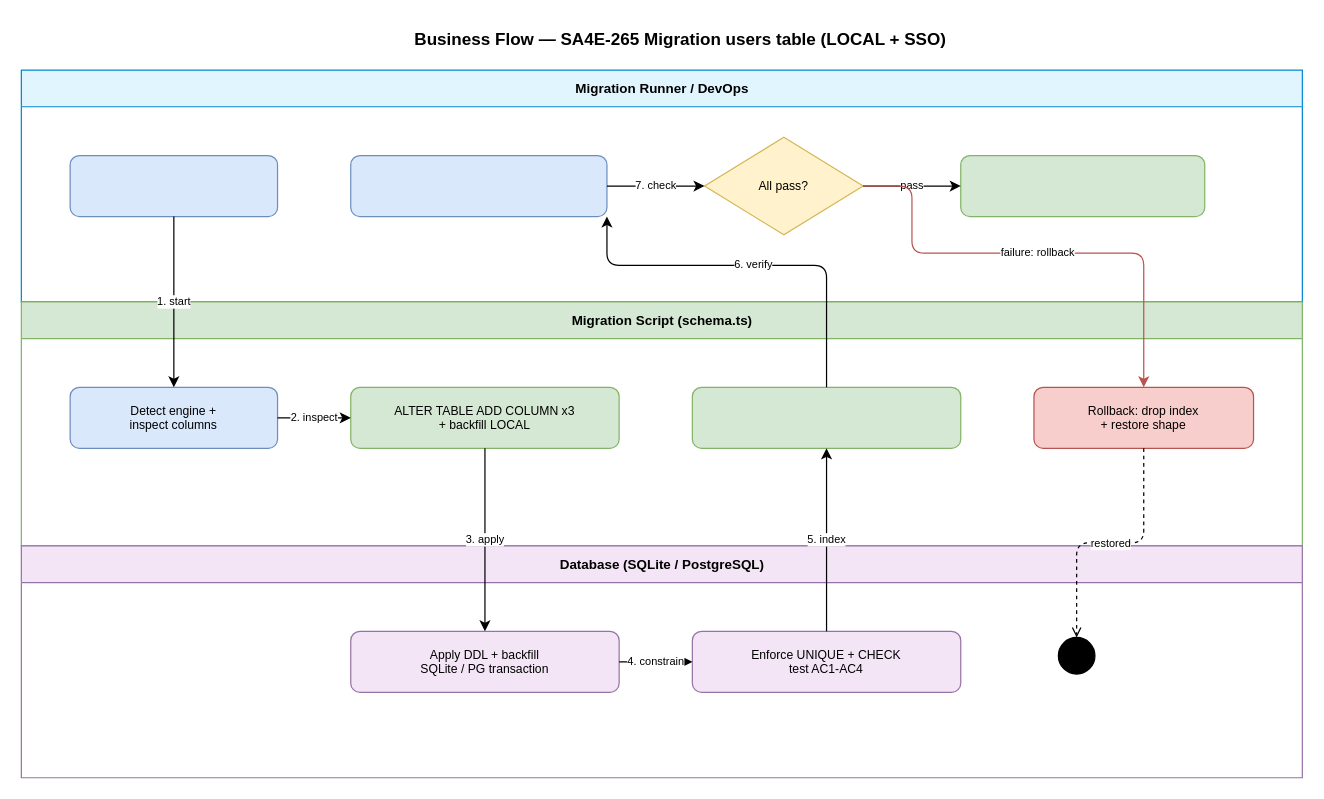
Some shapes in this 1324 by 799 pixel diagram are drawn without their labels. The centre of each missing label's shape, as x and y in pixels:
"CREATE UNIQUE INDEX (provider, subject)" belongs at pixel 826 417.
"Schema SSO-ready" belongs at pixel 1082 185.
"Trigger migration" belongs at pixel 173 185.
"Verify 5 ACs both engines" belongs at pixel 478 185.
